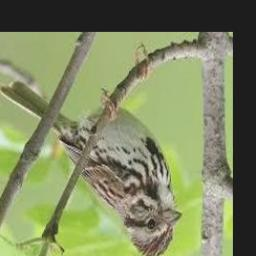Sparrow: (0, 45, 183, 256)
